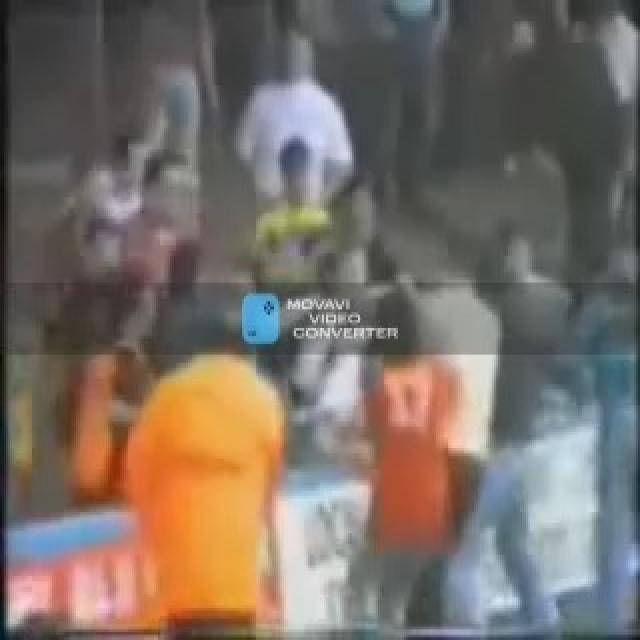non-voilence: (0, 0, 638, 637), (122, 349, 286, 635), (360, 352, 466, 555)
